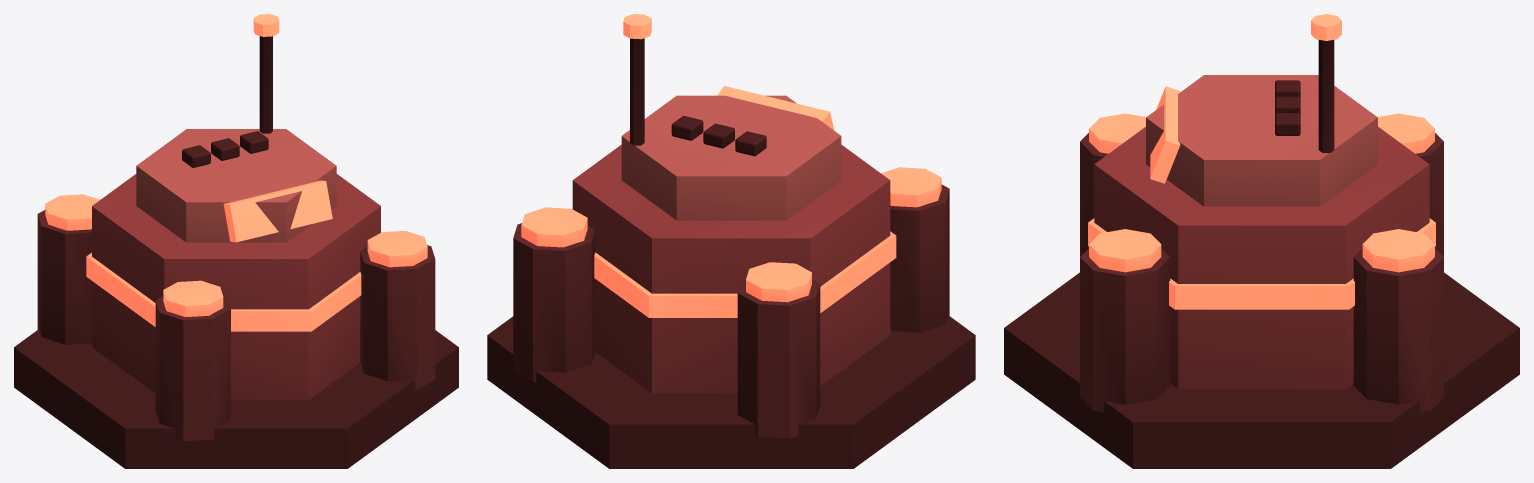
Rendered from covenant_device.glb.
3 views of the same model, side by side, from view 1: azimuth 30°, elevation 25°; view 2: azimuth 150°, elevation 25°; view 3: azimuth 270°, elevation 25° (orthographic). The views are drawn at different scales.
Visible parts, largest first — view 1: covenant_device; view 2: covenant_device; view 3: covenant_device.
Boxes of the visible parts, box(x1,y1,x2,y2) form: covenant_device: box(14, 14, 458, 468); covenant_device: box(487, 14, 975, 468); covenant_device: box(1004, 14, 1519, 468).
Bounding box in the file's own units: 0.3464 × 0.331 × 0.4.
